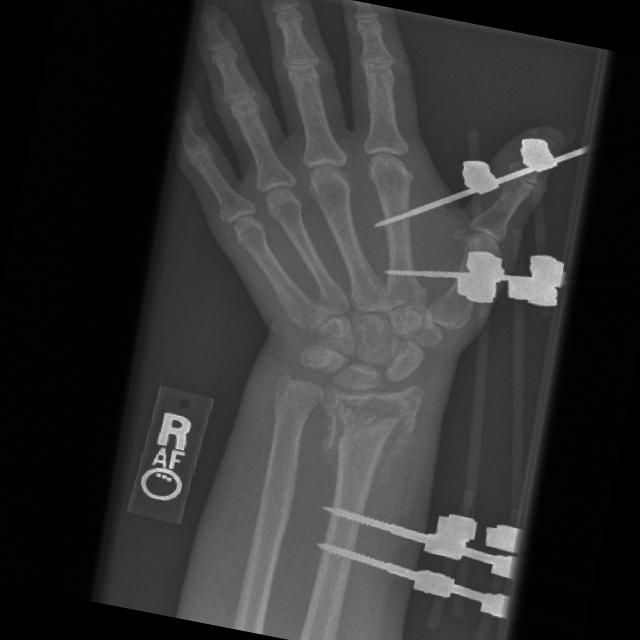fingers positive: (228, 336, 453, 485)
